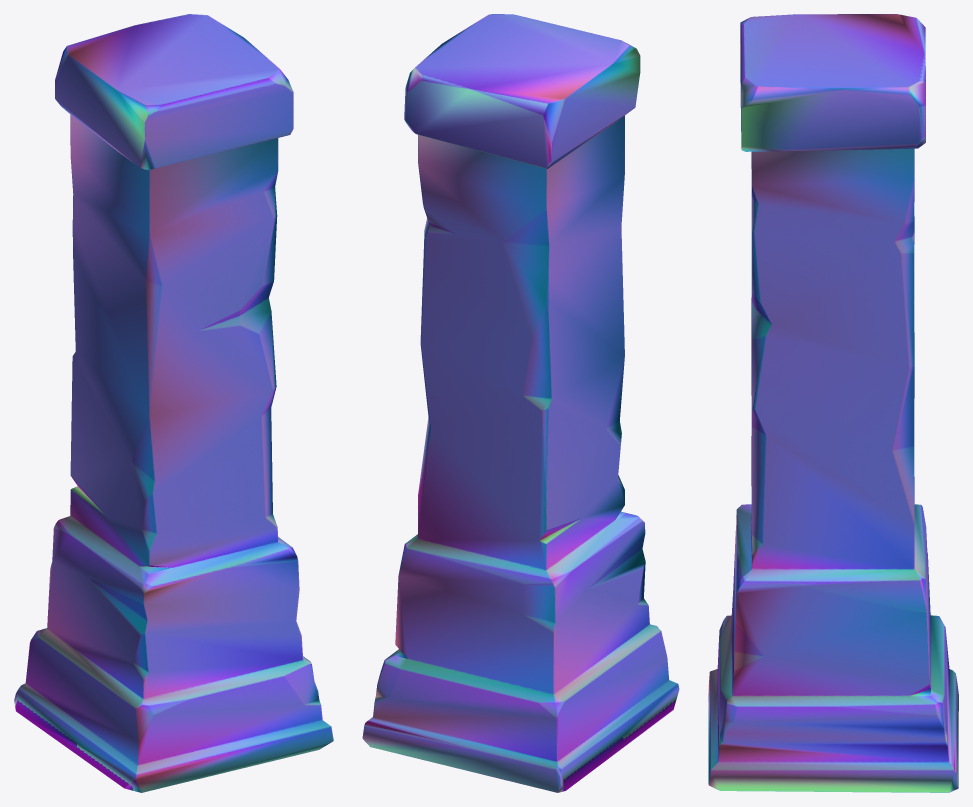
The model's file is pillar_layered_single_square_01_lowpoly.fbx.
3 renders of one model, left to right at view 1: azimuth 30°, elevation 25°; view 2: azimuth 150°, elevation 25°; view 3: azimuth 270°, elevation 25°, orthographic. The views are drawn at different scales.
Visible parts, largest first — view 1: RetopoGroup1; view 2: RetopoGroup1; view 3: RetopoGroup1.
Part boxes in pixels (bbox=[...]): RetopoGroup1: bbox=[14, 14, 333, 792]; RetopoGroup1: bbox=[362, 14, 679, 792]; RetopoGroup1: bbox=[708, 14, 958, 792].
Size of the model in its own units: 2.09 by 6.63 by 2.18.
